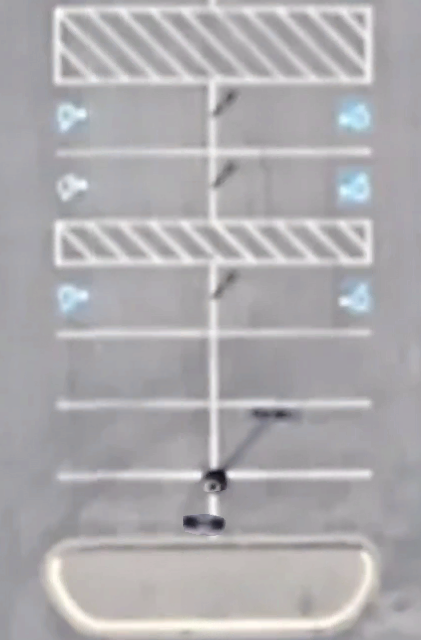Vacant: (211, 81, 372, 153), (56, 334, 213, 406), (214, 262, 372, 333), (214, 333, 372, 404), (55, 82, 211, 153), (213, 405, 371, 475), (56, 263, 213, 333), (211, 152, 372, 220), (56, 406, 214, 475), (56, 153, 212, 220), (56, 475, 214, 540), (213, 475, 371, 539)
